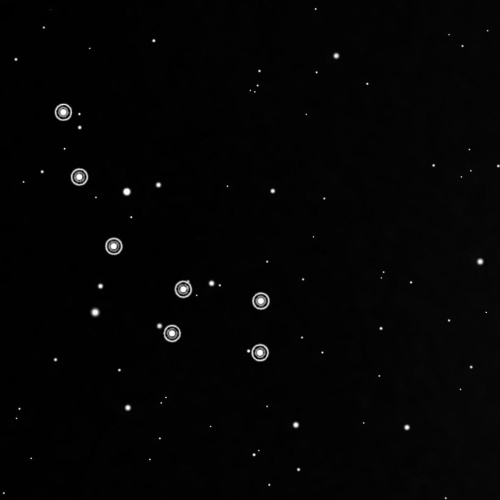ursa_minor: (49, 98, 281, 372)
